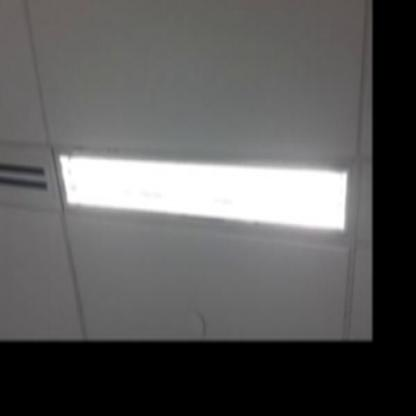light_on: (53, 115, 359, 294)
